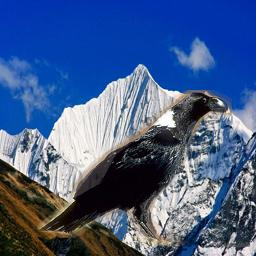Crow: (37, 90, 232, 246)
